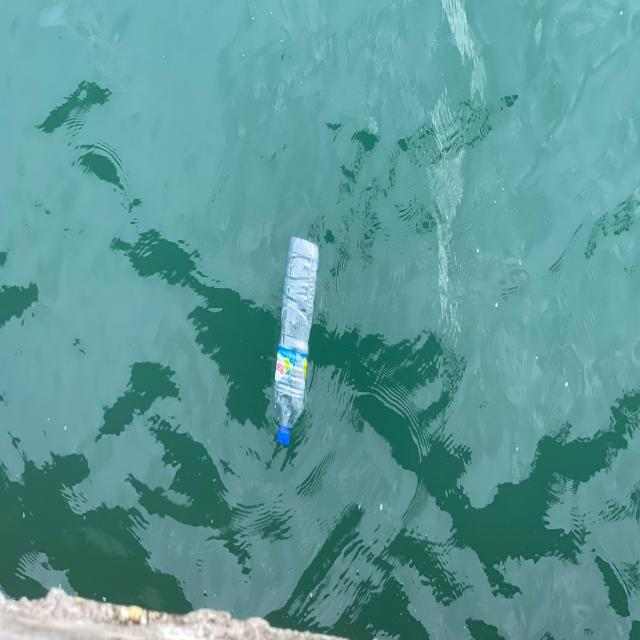Botol Plastik: (270, 237, 325, 459)
